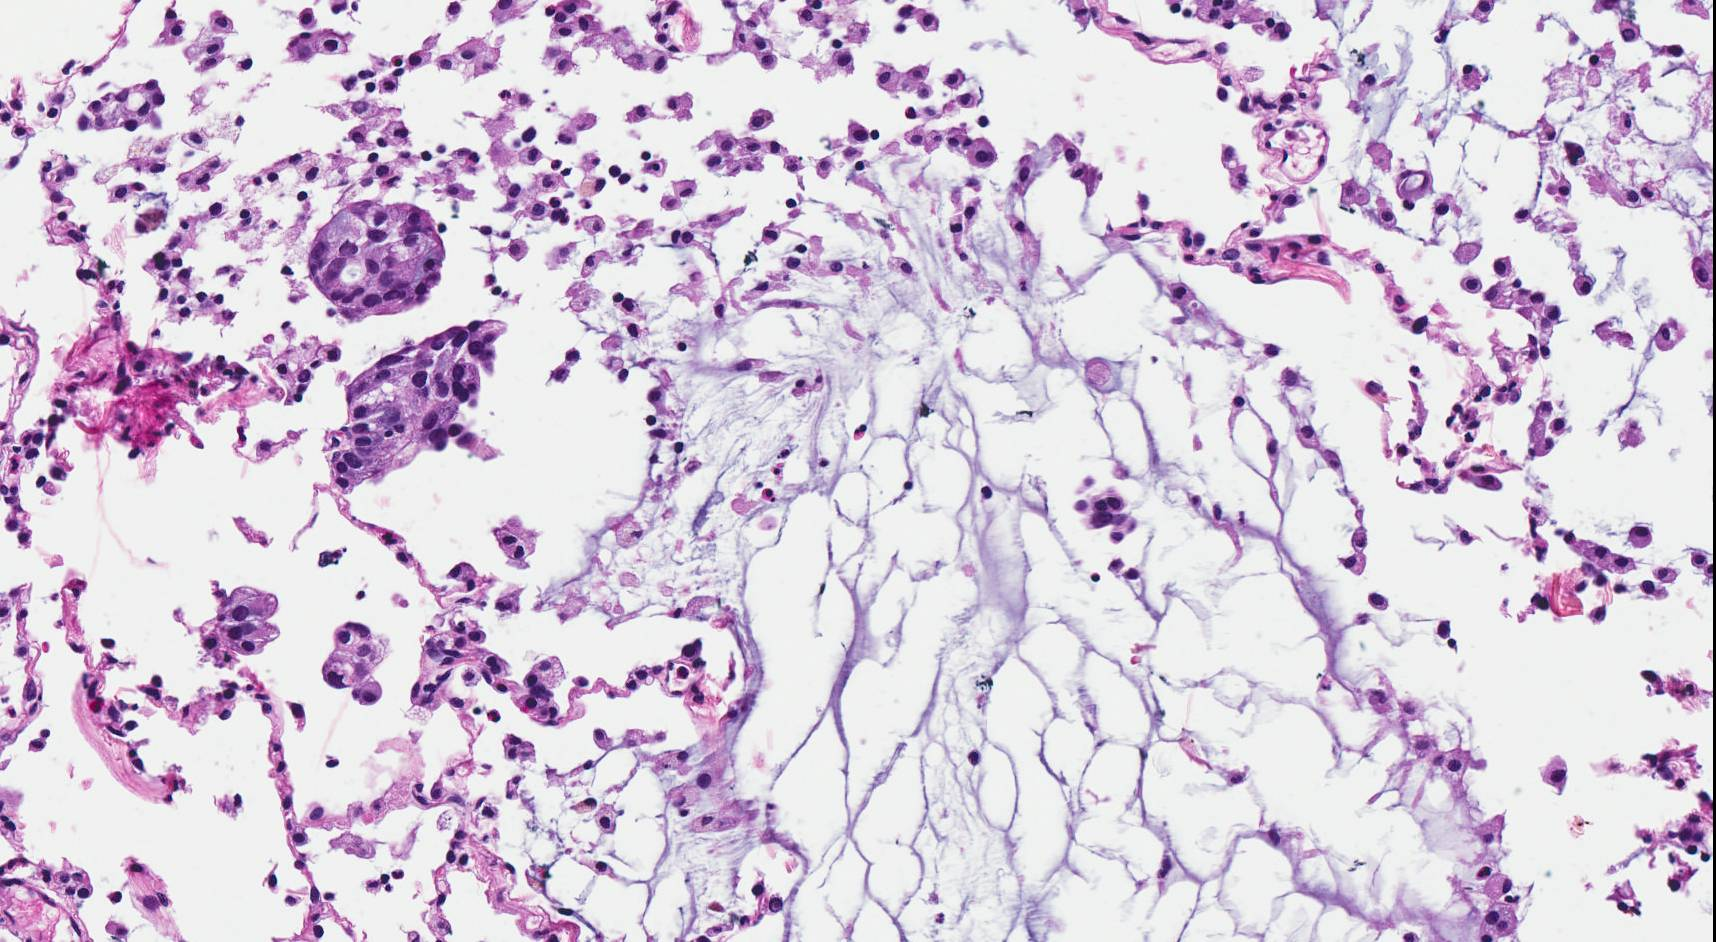stas: (322, 320, 507, 489), (302, 199, 464, 321), (188, 584, 284, 667), (321, 622, 387, 706), (75, 78, 163, 134), (1083, 488, 1142, 546)
